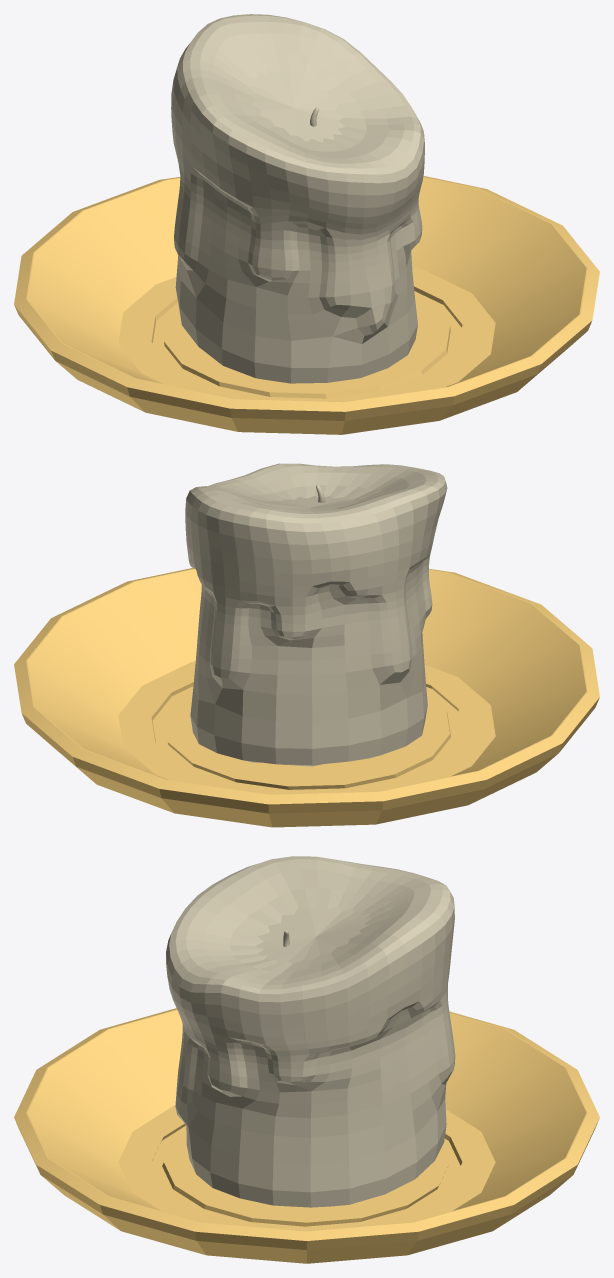
Rendered from CandleFrumpyWithPlate.fbx.
The picture shows the model from 3 angles, top to bottom: view 1: azimuth 30°, elevation 25°; view 2: azimuth 150°, elevation 25°; view 3: azimuth 270°, elevation 25°; orthographic projection.
Visible parts, largest first — view 1: FrumpyShortPlate; view 2: FrumpyShortPlate; view 3: FrumpyShortPlate.
Part boxes in pixels (left/top/right/bottom): FrumpyShortPlate: left=14, top=14, right=599, bottom=434; FrumpyShortPlate: left=14, top=463, right=599, bottom=827; FrumpyShortPlate: left=14, top=856, right=599, bottom=1263.
Size of the model in its own units: 25.44 by 13.13 by 25.44.
